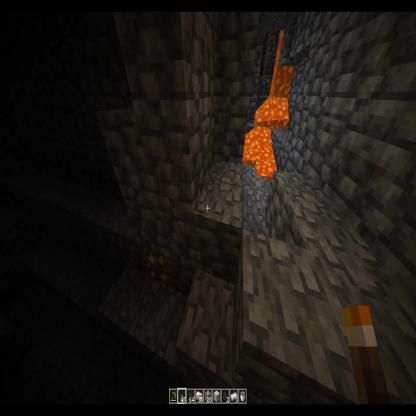iron ore: (140, 247, 182, 292)
